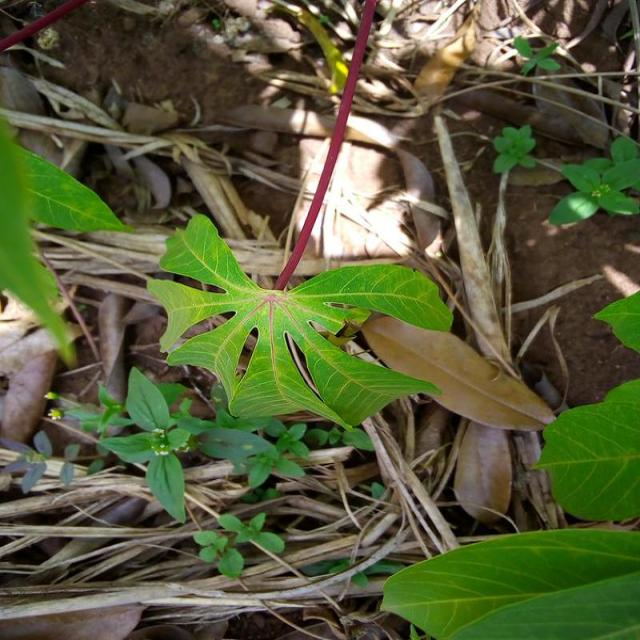cassava leaf: (146, 211, 454, 431), (379, 526, 639, 638), (529, 376, 638, 522)
